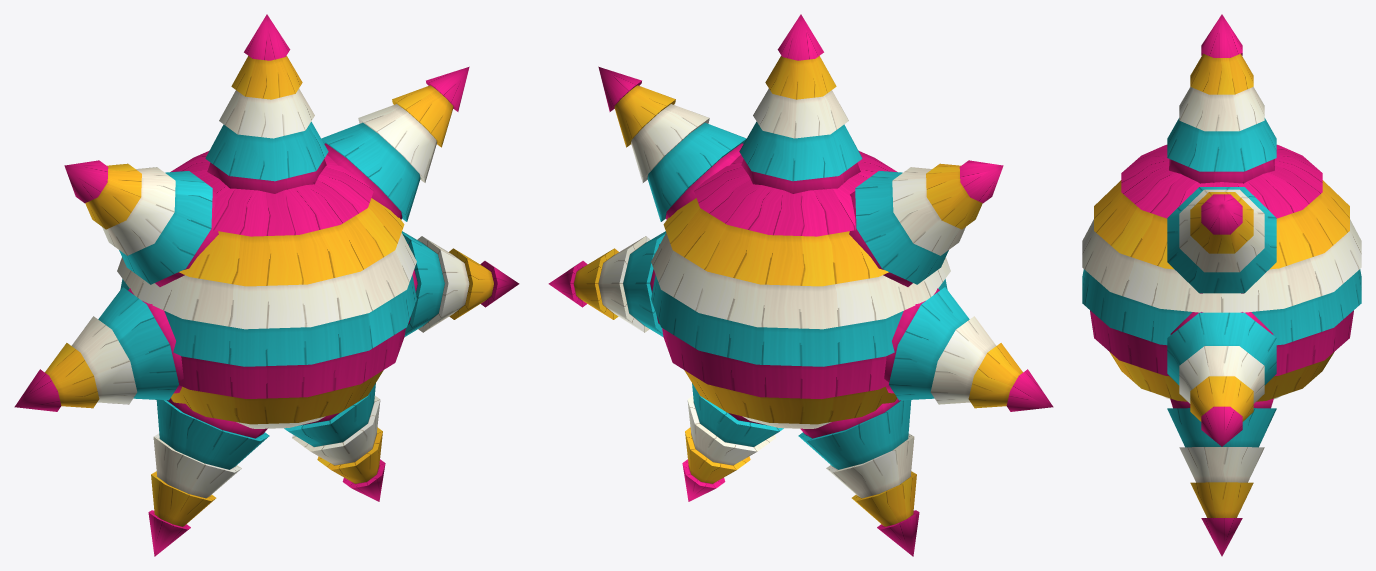
File: pinata.glb
3 views of the same model, side by side, from view 1: azimuth 30°, elevation 25°; view 2: azimuth 150°, elevation 25°; view 3: azimuth 270°, elevation 25° (orthographic). The views are drawn at different scales.
Visible parts, largest first — view 1: pinata; view 2: pinata; view 3: pinata.
Boxes of the visible parts, x1=… form: pinata: x1=14, y1=14, x2=519, y2=556; pinata: x1=548, y1=14, x2=1053, y2=556; pinata: x1=1082, y1=14, x2=1361, y2=556.
Size of the model in its own units: 1.03 by 1 by 0.5155.
Materials: 1 (1 with a texture image).
